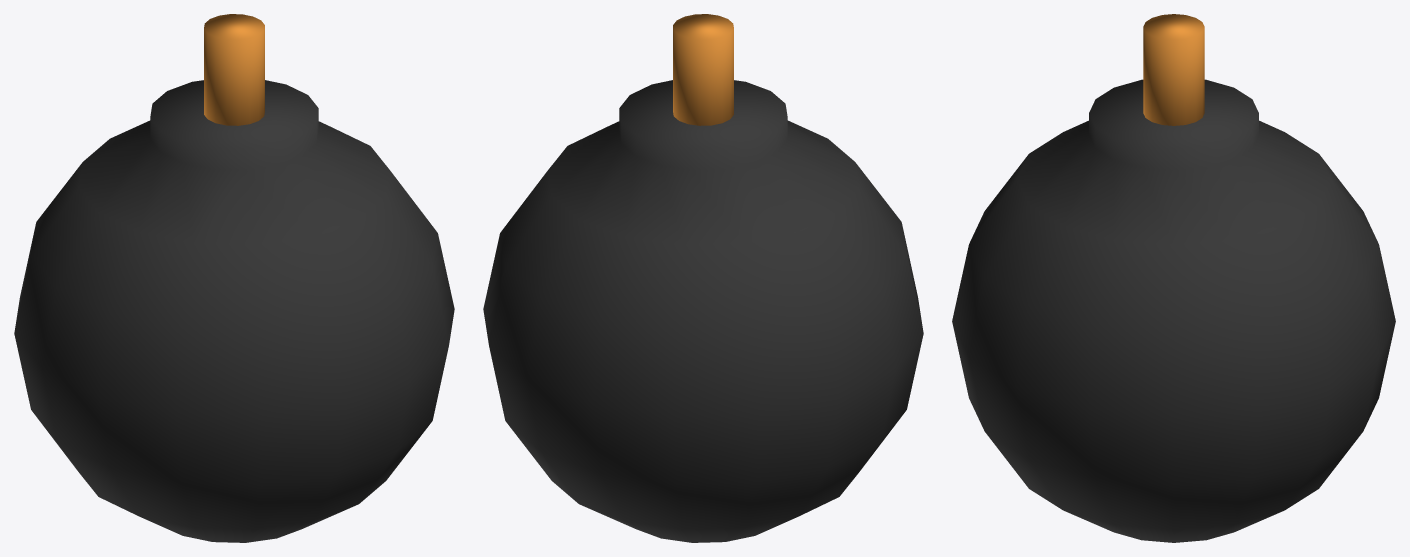
Rendered from bomb.glb.
3 views of the same model, side by side, from view 1: azimuth 30°, elevation 25°; view 2: azimuth 150°, elevation 25°; view 3: azimuth 270°, elevation 25° (orthographic).
Parts seen in each view (by area): view 1: Sphere, Cylinder; view 2: Sphere, Cylinder; view 3: Sphere, Cylinder.
Boxes of the visible parts, box(x1,y1,x2,y2) form: Sphere: box(14, 80, 454, 542); Cylinder: box(204, 14, 264, 125); Sphere: box(483, 80, 923, 542); Cylinder: box(673, 14, 733, 125); Sphere: box(952, 79, 1395, 542); Cylinder: box(1143, 14, 1204, 125).
Size of the model in its own units: 2 by 2.46 by 2.
